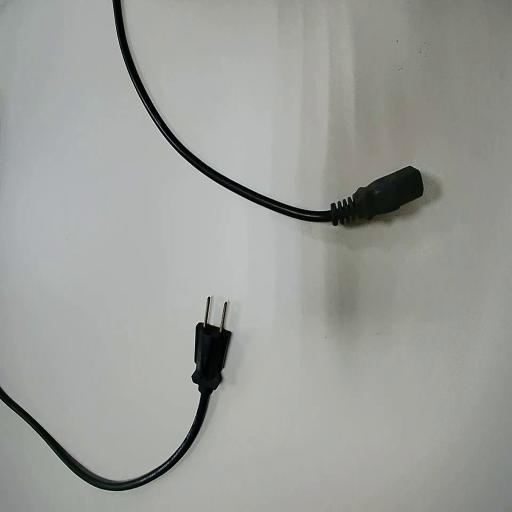wire: (114, 0, 423, 225), (0, 323, 230, 489)
